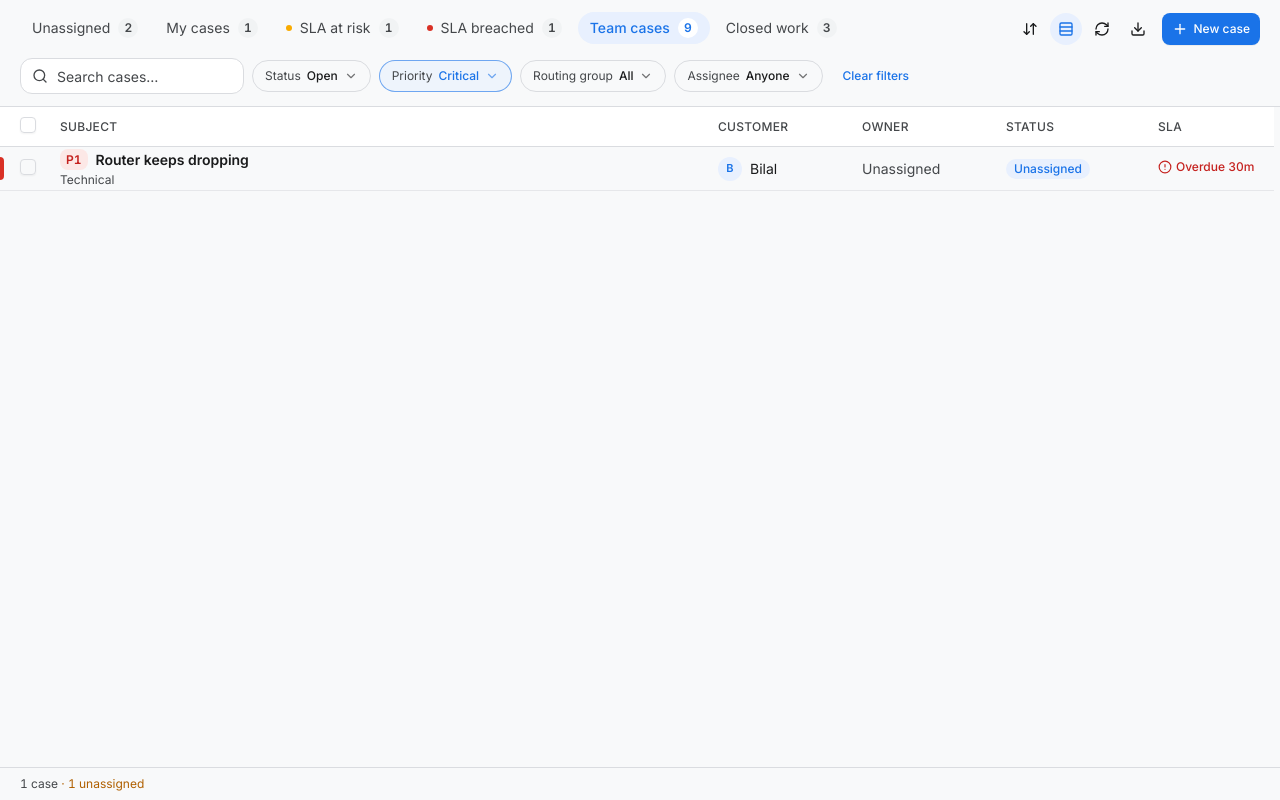
Test case: case Workbench › applies dashboard drill links and switches list views
Expected: the text "Router keeps dropping" is shown, x1=96 y1=150 x2=249 y2=170
Expected: the text "Update billing address" is not shown
Click the button "Clear filters" at (876, 76), box x1=830 y1=60 x2=921 y2=92
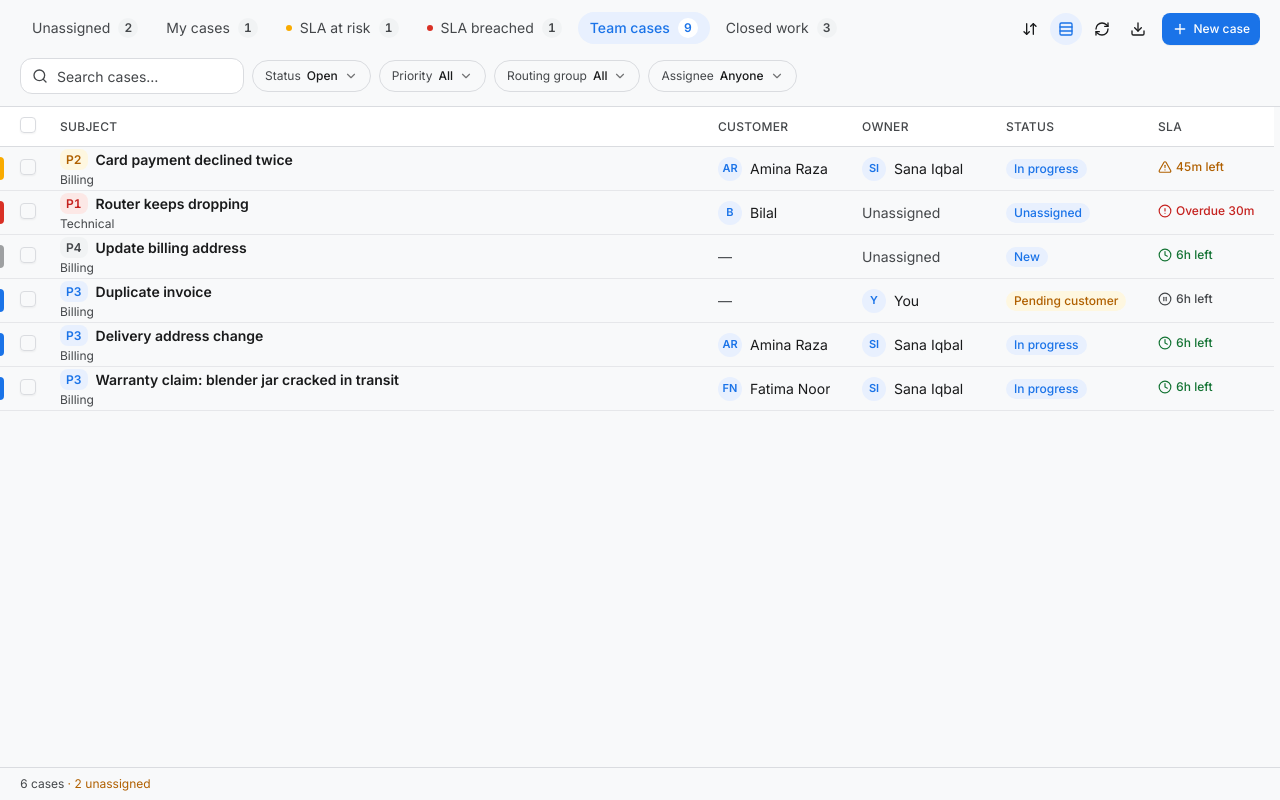
Now the text "Update billing address" is shown, box x1=96 y1=238 x2=247 y2=258
Click the button "Closed work 3" at (781, 28), box x1=714 y1=12 x2=849 y2=44
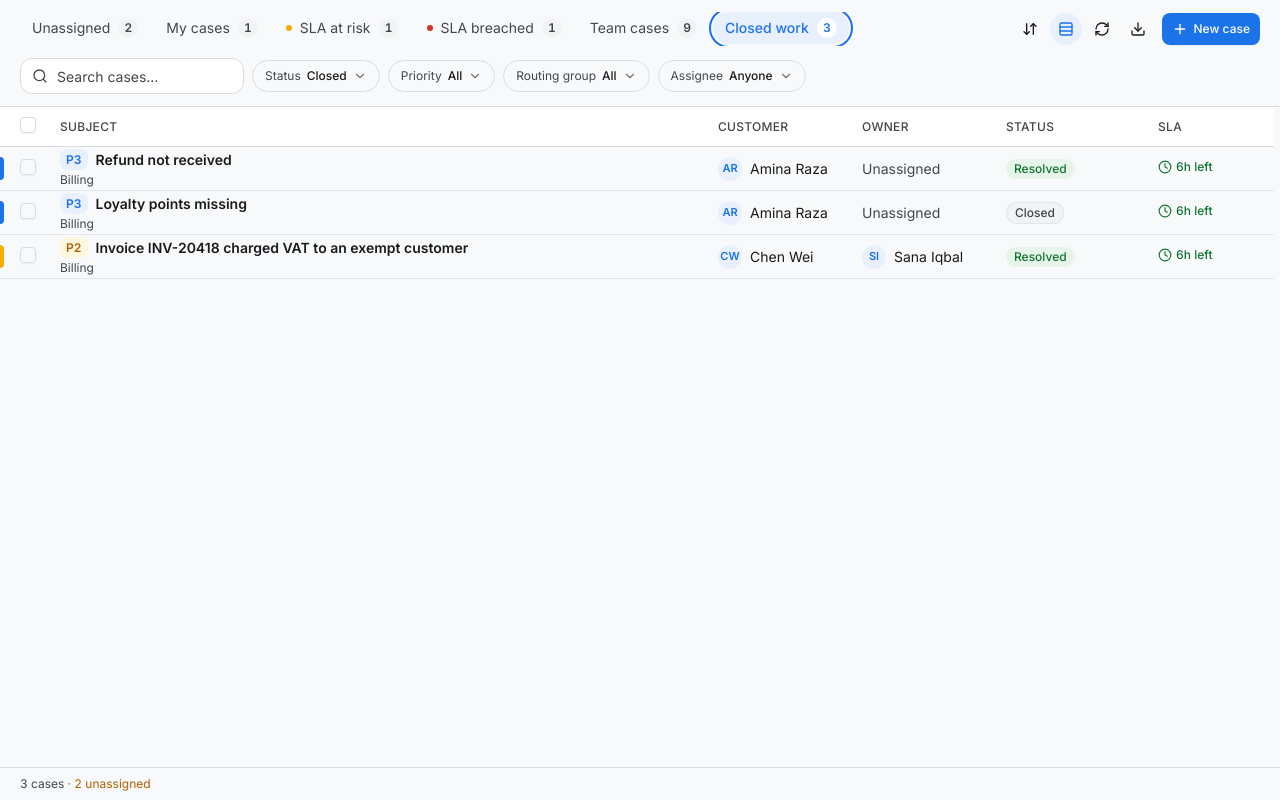
Now the text "Refund not received" is shown, box x1=96 y1=150 x2=232 y2=170
